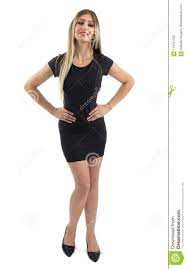person: (22, 8, 140, 262)
